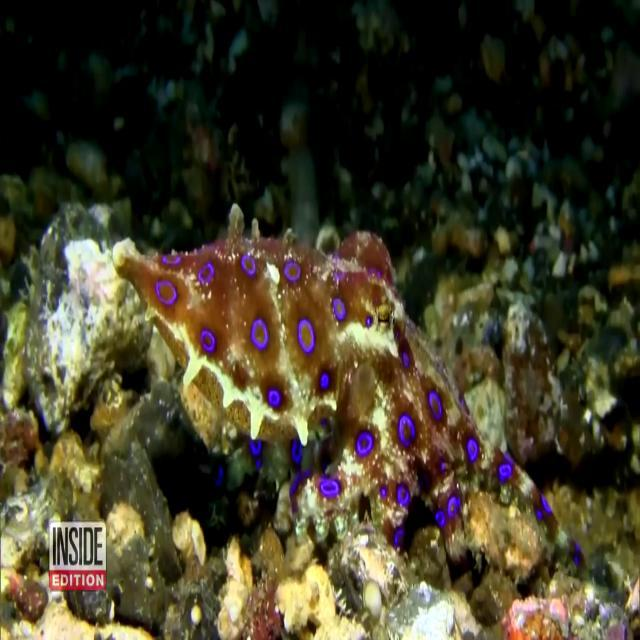octopus: (99, 210, 584, 586)
